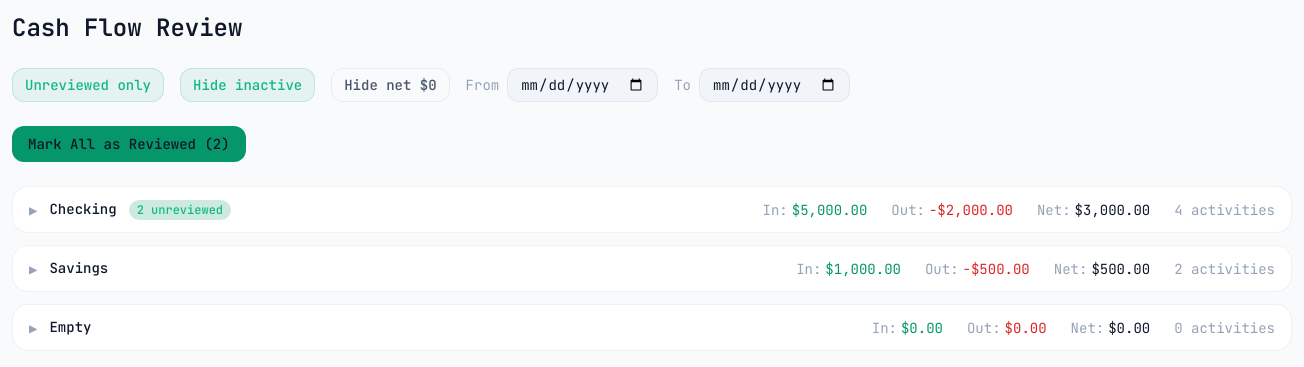
Test: CashFlowReviewPage › hide net $0 toggle filters accounts with zero net flow
The width and height of the screenshot is (1304, 367).
Check: the button with test id "account-row-acc-3" is shown, box [13,305,1291,350]
# Toggle hide net $0
Click the button with test id "hide-zero-net-toggle" at (390, 85), box [331,68,450,102]
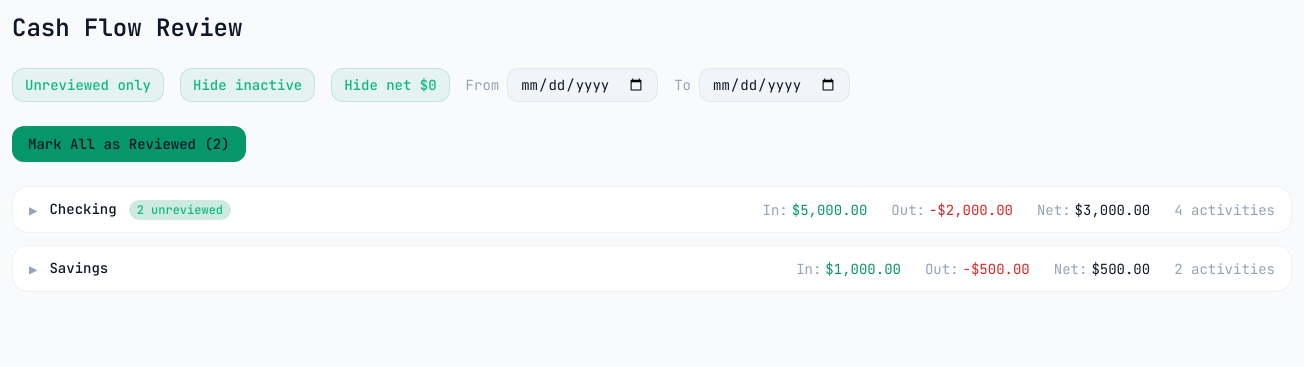
Check: the button with test id "account-row-acc-1" is shown, box [13,187,1291,232]
Check: the button with test id "account-row-acc-3" is gone
